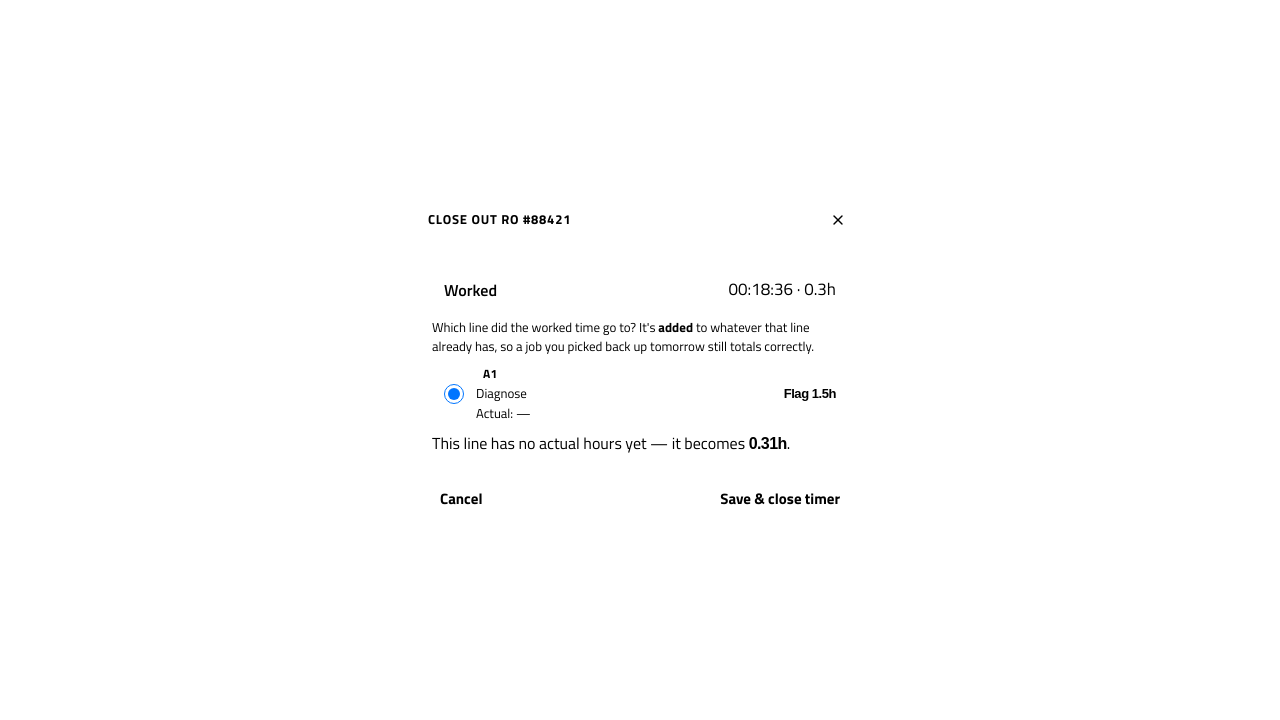
Test: TimerSaveModal — a refused save › shows the returned sentence and hands nothing back
Click the button "Save & close timer".
click(780, 499)  # box [708,477,852,521]
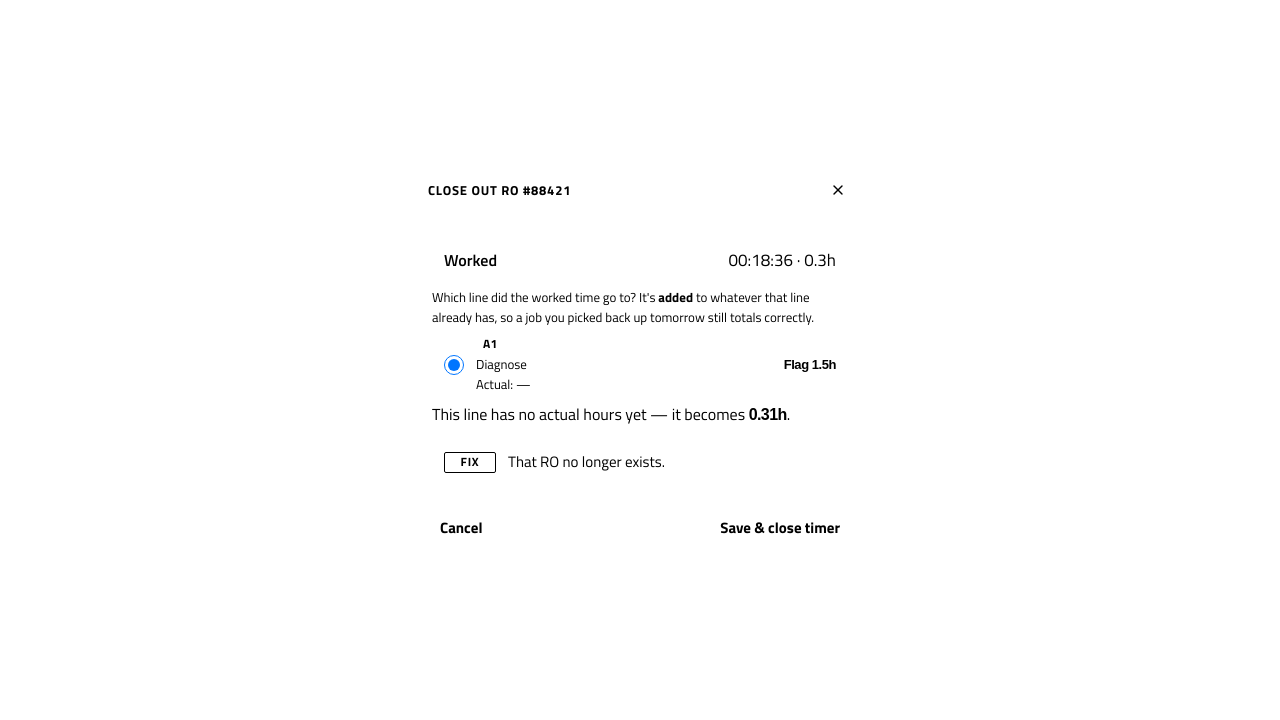
Expected: the button "Save & close timer" is shown, [708,507,852,551]
Expected: the text "That RO no longer exists." is shown, [508,450,665,473]
